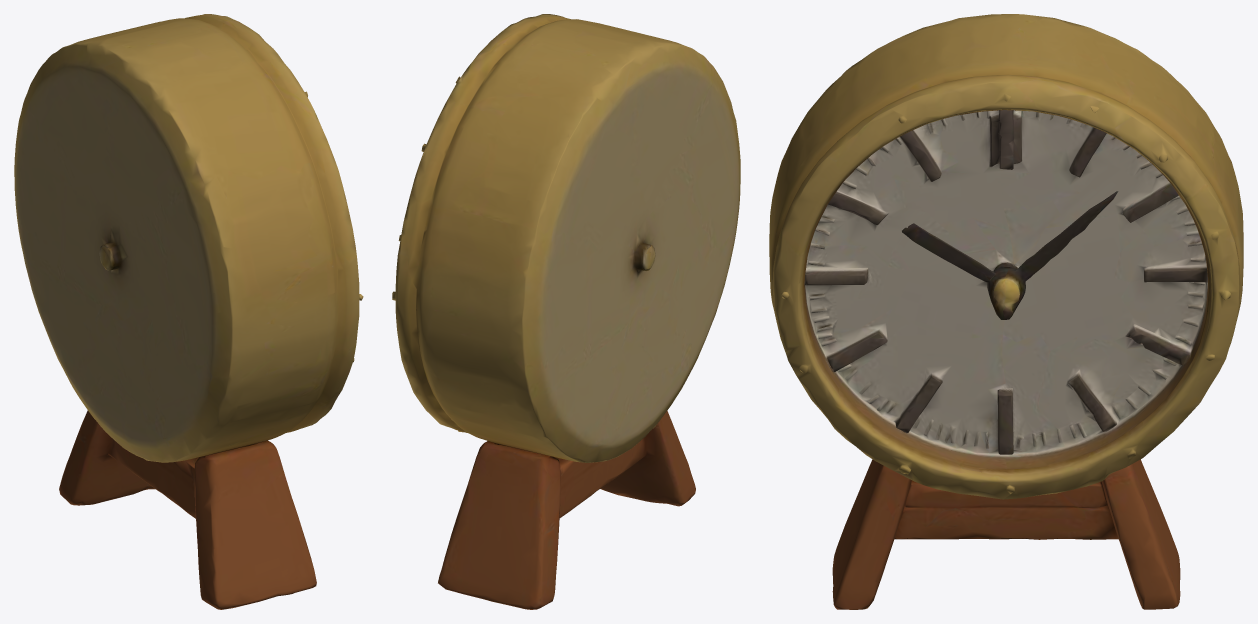
The picture shows the model from 3 angles, left to right: view 1: azimuth 30°, elevation 25°; view 2: azimuth 150°, elevation 25°; view 3: azimuth 270°, elevation 25°; orthographic projection. The views are drawn at different scales.
Visible parts, largest first — view 1: tripo_node_e3cbc68a-0281-4990-8e1e-0526b0b70fc0; view 2: tripo_node_e3cbc68a-0281-4990-8e1e-0526b0b70fc0; view 3: tripo_node_e3cbc68a-0281-4990-8e1e-0526b0b70fc0.
Boxes of the visible parts, x1=… form: tripo_node_e3cbc68a-0281-4990-8e1e-0526b0b70fc0: x1=14, y1=14, x2=363, y2=609; tripo_node_e3cbc68a-0281-4990-8e1e-0526b0b70fc0: x1=392, y1=14, x2=740, y2=609; tripo_node_e3cbc68a-0281-4990-8e1e-0526b0b70fc0: x1=769, y1=14, x2=1243, y2=609.
Size of the model in its own units: 0.0859 by 0.25 by 0.1986.
Materials: 1 (1 with a texture image).
